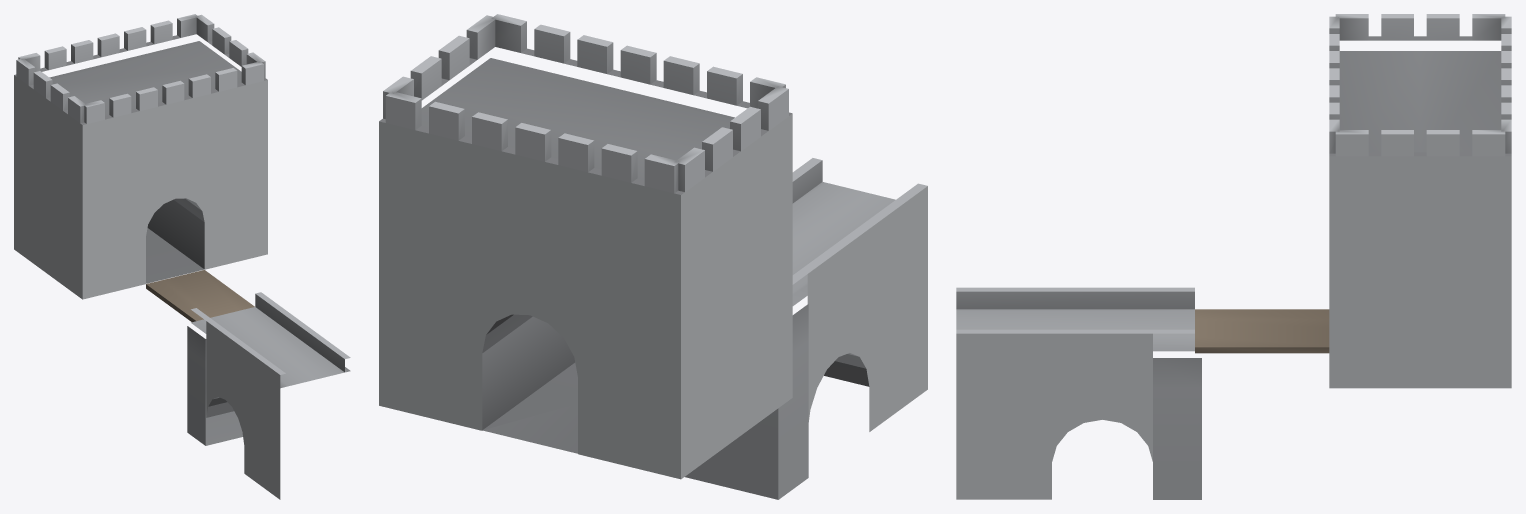
Rendered from sg_barbican_l1.glb.
The picture shows the model from 3 angles, left to right: view 1: azimuth 30°, elevation 25°; view 2: azimuth 150°, elevation 25°; view 3: azimuth 270°, elevation 25°; orthographic projection. The views are drawn at different scales.
Visible parts, largest first — view 1: sg_barbican_l1_SG_Far, sg_barbican_l1_SG_Stone, sg_barbican_l1_SG_Joinery; view 2: sg_barbican_l1_SG_Far, sg_barbican_l1_SG_Stone; view 3: sg_barbican_l1_SG_Far, sg_barbican_l1_SG_Stone, sg_barbican_l1_SG_Joinery.
Part boxes in pixels (x1=…): sg_barbican_l1_SG_Far: x1=14, y1=75, x2=280, y2=499; sg_barbican_l1_SG_Stone: x1=14, y1=14, x2=350, y2=445; sg_barbican_l1_SG_Joinery: x1=146, y1=270, x2=254, y2=322; sg_barbican_l1_SG_Far: x1=379, y1=114, x2=927, y2=479; sg_barbican_l1_SG_Stone: x1=379, y1=14, x2=927, y2=499; sg_barbican_l1_SG_Far: x1=956, y1=156, x2=1511, y2=499; sg_barbican_l1_SG_Stone: x1=956, y1=14, x2=1511, y2=499; sg_barbican_l1_SG_Joinery: x1=1195, y1=309, x2=1329, y2=353.
Bounding box in the file's own units: 13.9 × 21.7 × 27.12.
